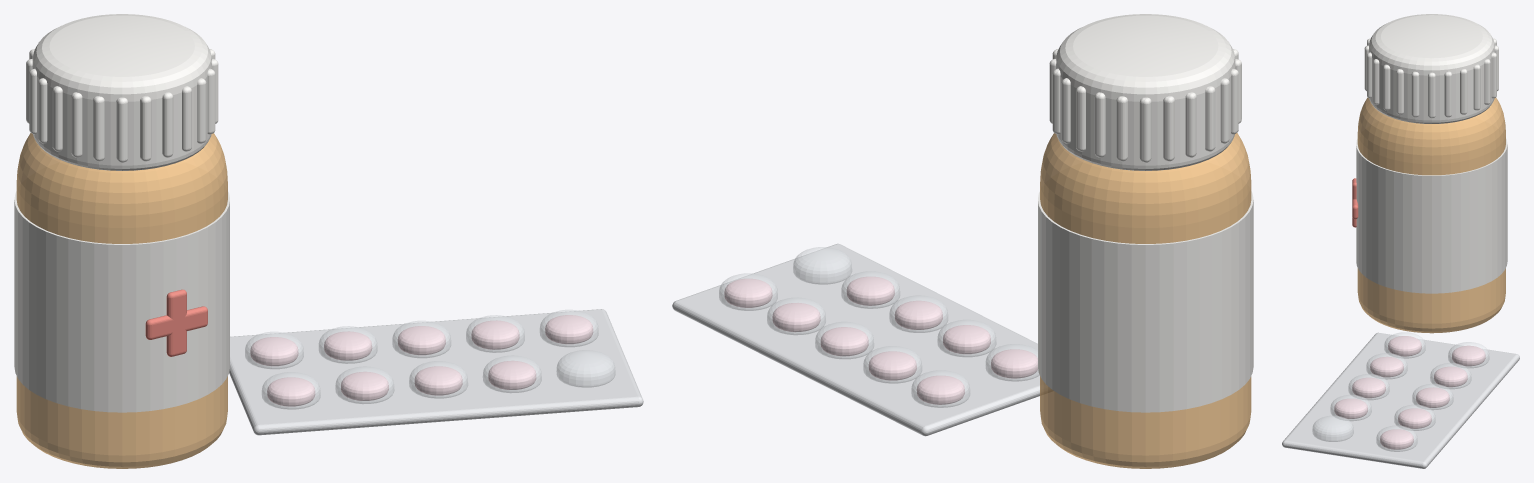
Rendered from pills.glb.
The picture shows the model from 3 angles, left to right: view 1: azimuth 30°, elevation 25°; view 2: azimuth 150°, elevation 25°; view 3: azimuth 270°, elevation 25°; orthographic projection. The views are drawn at different scales.
Parts seen in each view (by area): view 1: Pills_Label, Pills_Blister_Foil, Pills_Bottle_Body, Pills_Cap, Pills_Blister_Bubbles, Pills_Tablets, Pills_Label_Cross; view 2: Pills_Label, Pills_Blister_Foil, Pills_Bottle_Body, Pills_Cap, Pills_Blister_Bubbles, Pills_Tablets; view 3: Pills_Label, Pills_Blister_Foil, Pills_Bottle_Body, Pills_Cap, Pills_Blister_Bubbles, Pills_Tablets, Pills_Label_Cross.
Part boxes in pixels (x1,y1,x2,y2): Pills_Label: [14, 191, 229, 412]; Pills_Blister_Foil: [229, 309, 643, 435]; Pills_Bottle_Body: [16, 133, 227, 468]; Pills_Cap: [26, 14, 218, 170]; Pills_Blister_Bubbles: [245, 309, 615, 409]; Pills_Tablets: [250, 315, 593, 406]; Pills_Label_Cross: [145, 289, 207, 356]; Pills_Label: [1038, 191, 1253, 412]; Pills_Blister_Foil: [672, 243, 1039, 436]; Pills_Bottle_Body: [1040, 133, 1251, 468]; Pills_Cap: [1049, 14, 1241, 170]; Pills_Blister_Bubbles: [719, 247, 1039, 407]; Pills_Tablets: [724, 276, 1037, 404]; Pills_Label: [1356, 138, 1507, 293]; Pills_Blister_Foil: [1282, 332, 1519, 468]; Pills_Bottle_Body: [1357, 97, 1505, 333]; Pills_Cap: [1364, 14, 1498, 123]; Pills_Blister_Bubbles: [1312, 332, 1489, 451]; Pills_Tablets: [1334, 336, 1485, 449]; Pills_Label_Cross: [1352, 178, 1358, 227].
Size of the model in its own units: 0.15 by 0.098 by 0.077.
